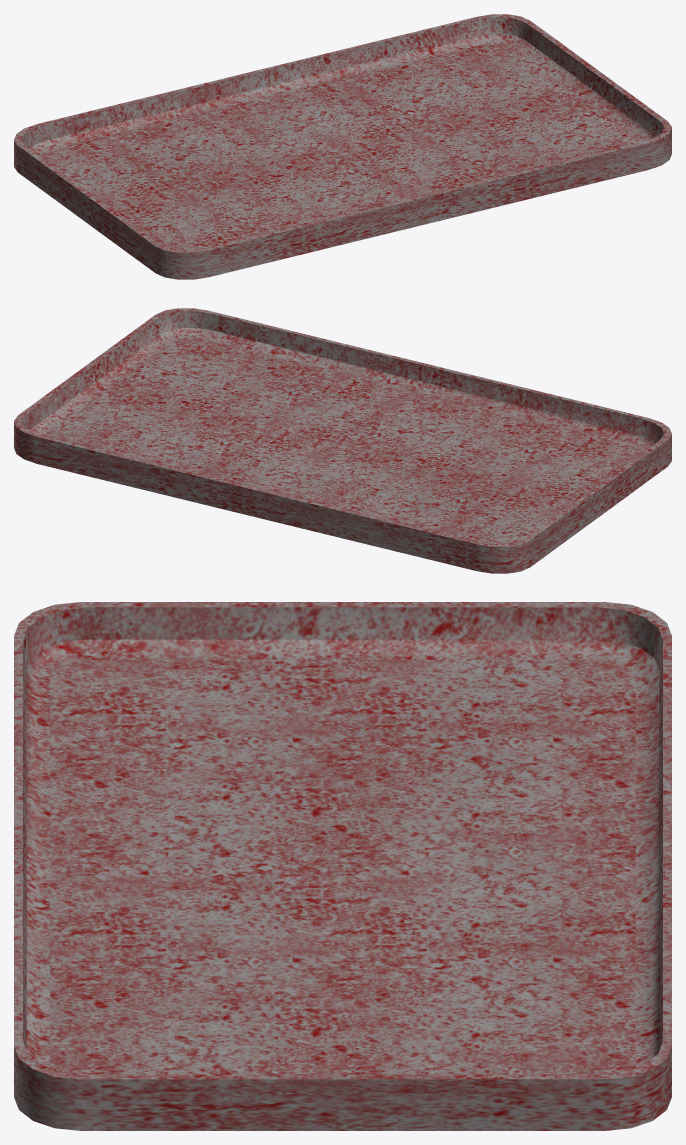
Rendered from Metal_Tray.fbx.
The picture shows the model from 3 angles, top to bottom: view 1: azimuth 30°, elevation 25°; view 2: azimuth 150°, elevation 25°; view 3: azimuth 270°, elevation 25°; orthographic projection. The views are drawn at different scales.
Visible parts, largest first — view 1: Metal_Tray; view 2: Metal_Tray; view 3: Metal_Tray.
Part boxes in pixels (box(x1,y1,x2,y2)): Metal_Tray: box(14, 14, 671, 279); Metal_Tray: box(14, 308, 671, 573); Metal_Tray: box(14, 602, 671, 1130).
Size of the model in its own units: 3.66 by 0.1837 by 2.13.
